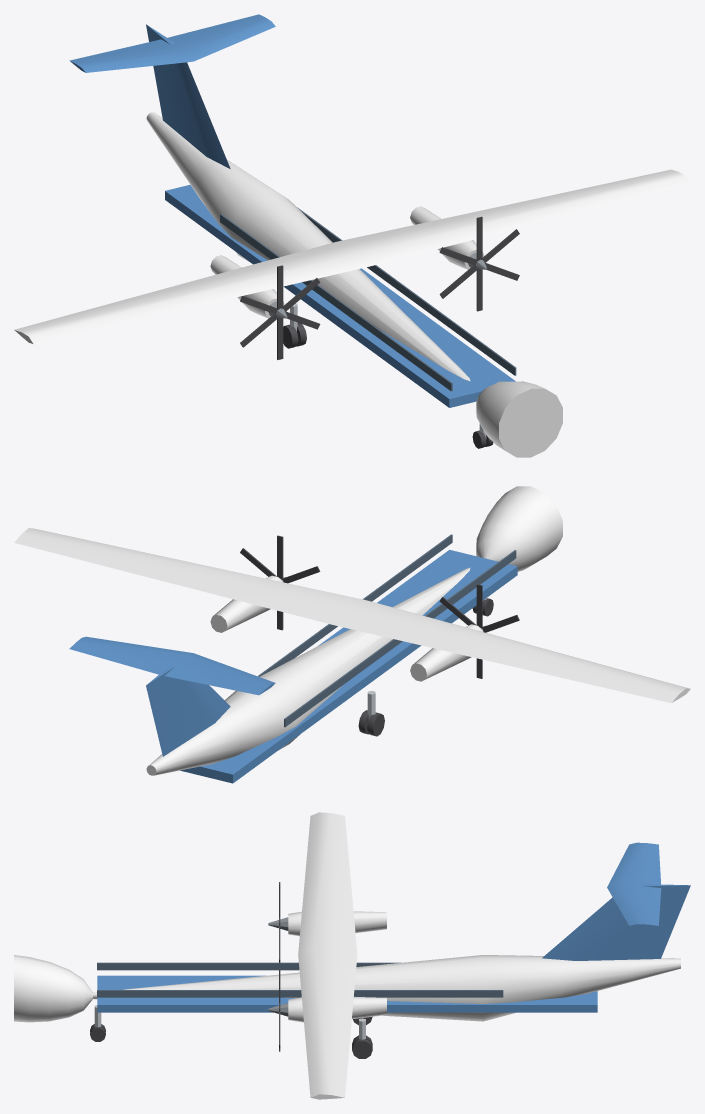
Rendered from turbopropulseur.glb.
The picture shows the model from 3 angles, top to bottom: view 1: azimuth 30°, elevation 25°; view 2: azimuth 150°, elevation 25°; view 3: azimuth 270°, elevation 25°; orthographic projection. The views are drawn at different scales.
Visible parts, largest first — view 1: fuselage, ailes, empennage, helice_droite, helice_gauche, moteurs, train; view 2: fuselage, ailes, empennage, moteurs, helice_droite, helice_gauche, train; view 3: fuselage, ailes, empennage, moteurs, train.
Boxes of the visible parts, x1,y1,x2,y2 form: fuselage: [146, 112, 562, 457]; ailes: [14, 169, 690, 344]; empennage: [69, 14, 275, 168]; helice_droite: [240, 265, 320, 359]; helice_gauche: [439, 216, 519, 311]; moteurs: [210, 206, 484, 318]; train: [283, 303, 493, 448]; fuselage: [146, 486, 562, 783]; ailes: [14, 528, 690, 702]; empennage: [69, 636, 275, 756]; moteurs: [210, 575, 483, 681]; helice_droite: [439, 584, 519, 678]; helice_gauche: [240, 535, 320, 630]; train: [358, 598, 493, 736]; fuselage: [14, 955, 680, 1022]; ailes: [298, 812, 357, 1099]; empennage: [542, 842, 690, 960]; moteurs: [288, 911, 386, 1022]; train: [90, 1005, 372, 1058].
Size of the model in its own units: 27 by 6.96 by 27.4.
